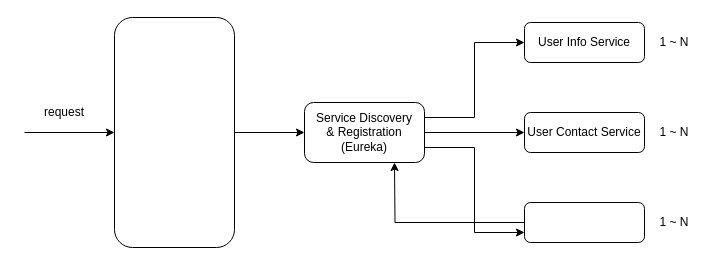
Image size: 712x265. Some labels were removed from this diagram. The shapes that lost their labels are listed below. From the top down, each one's box as (x1, y1, x2, y2) in pixels, then its label:
(114, 16, 234, 248): API Gateway : Zuul (loadbalanced)
(524, 202, 644, 242): User Details Service
